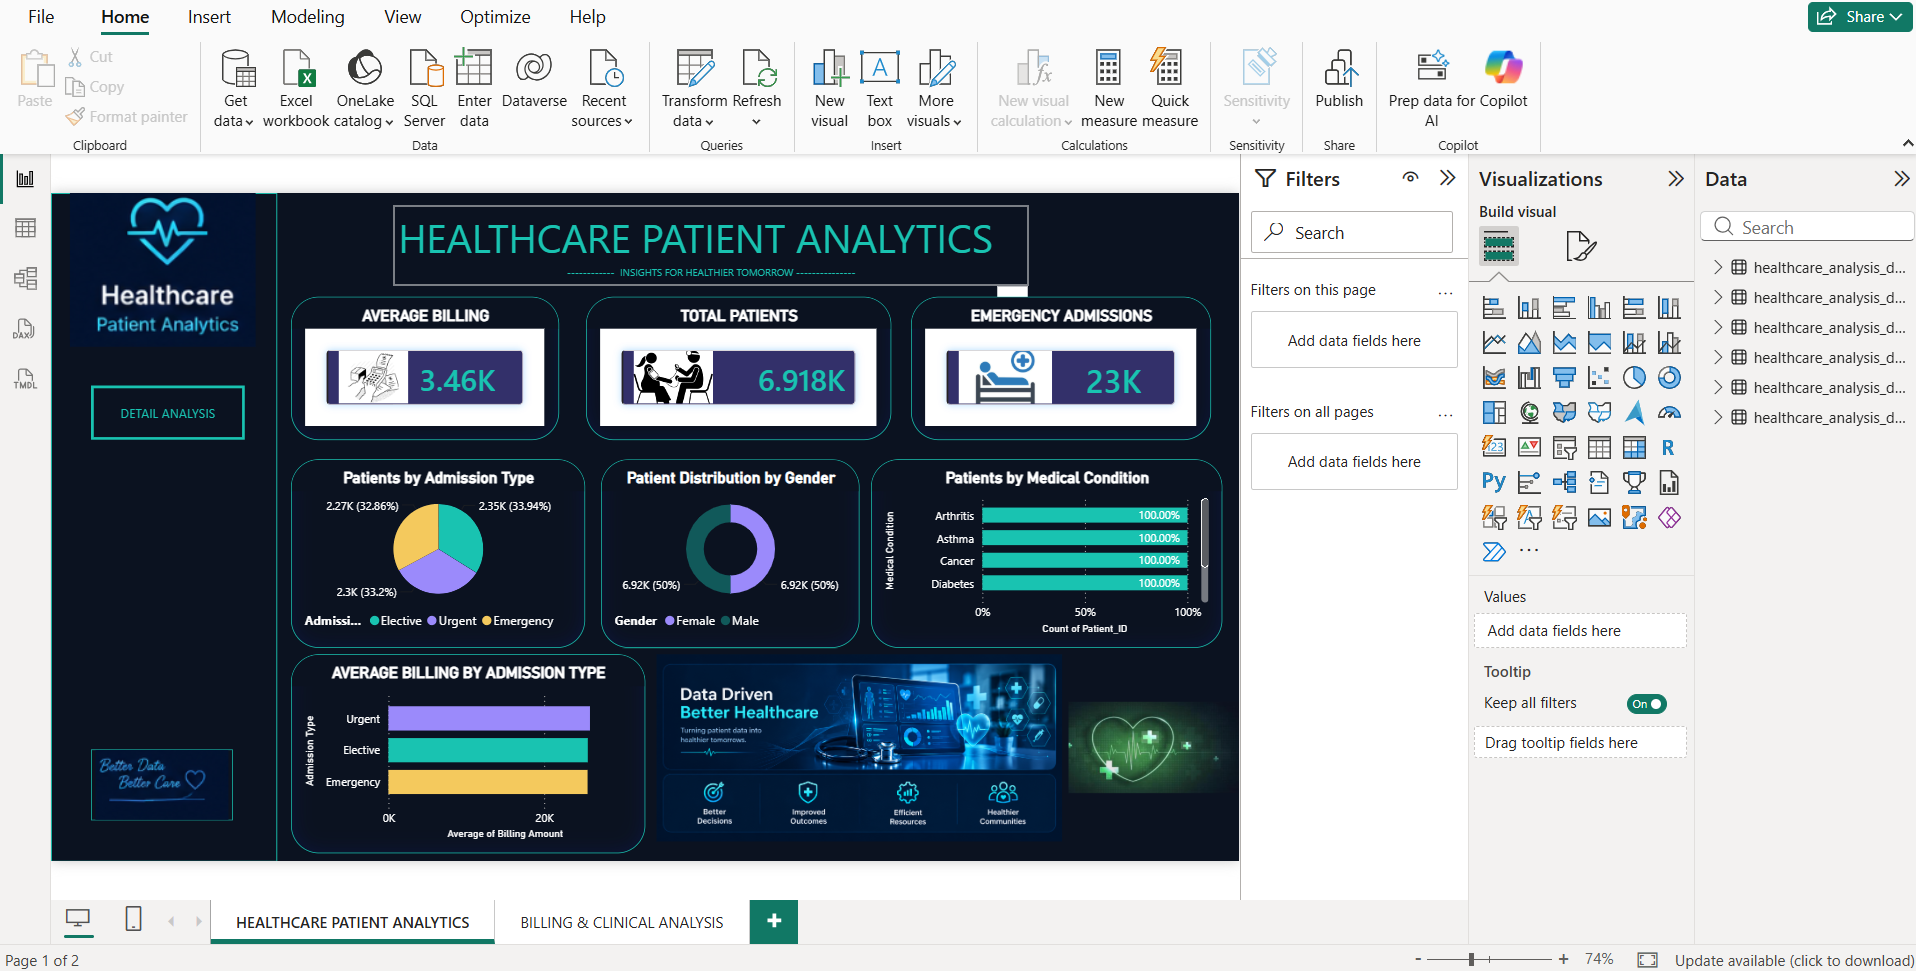

The page's visual inventory and layout, read from the dashboard file:
{"tool":"powerbi","page":{"name":"HEALTHCARE PATIENT ANALYTICS","canvas":[1280,720],"ordinal":0},"visuals":[{"type":"textbox","box":[368.6,12.9,684.3,87.1],"z":0},{"type":"cardVisual","title":"TOTAL PATIENTS","fields":{"Data":["CountNonNull(healthcare_analysis_db billing.Patient_ID)"]},"box":[575.7,111.4,328.6,154.3],"z":1000},{"type":"pieChart","title":"Patients by Admission Type","fields":{"Category":["healthcare_analysis_db admissions.Admission Type"],"Y":["CountNonNull(healthcare_analysis_db admissions.Patient_ID)"]},"box":[258.6,287.1,317.1,202.9],"z":2000},{"type":"hundredPercentStackedBarChart","title":"Patients by Medical Condition","fields":{"Category":["healthcare_analysis_db healthcare_cleaned.Medical Condition"],"Y":["CountNonNull(healthcare_analysis_db billing.Patient_ID)"]},"box":[882.9,287.1,378.6,202.9],"z":3000},{"type":"donutChart","title":"Patient Distribution by Gender","fields":{"Category":["healthcare_analysis_db healthcare_cleaned.Gender"],"Y":["CountNonNull(healthcare_analysis_db billing.Patient_ID)"]},"box":[592.9,287.1,278.6,202.9],"z":4000},{"type":"cardVisual","title":"EMERGENCY ADMISSIONS","fields":{"Data":["Sum(healthcare_analysis_db healthcare_cleaned.Admission Month)"]},"box":[925.7,111.4,322.9,154.3],"z":5000},{"type":"barChart","title":"AVERAGE BILLING BY ADMISSION TYPE","fields":{"Category":["healthcare_analysis_db admissions.Admission Type"],"Y":["Avg(healthcare_analysis_db billing.Billing Amount)"]},"box":[258.6,497.1,381.4,214.3],"z":6000},{"type":"cardVisual","title":"AVERAGE BILLING","fields":{"Data":["Avg(healthcare_analysis_db billing.Billing_ID)"]},"box":[258.6,111.4,288.6,154.3],"z":7000},{"type":"image","box":[517.1,497.1,707.1,201.4],"z":8000},{"type":"shape","box":[0,0,243.7,720.2],"z":9000},{"type":"image","box":[11.4,0,218.6,165.7],"z":10000},{"type":"actionButton","box":[42.9,207.1,165.7,58.6],"z":11000},{"type":"image","box":[42.9,598.6,152.9,77.1],"z":12000},{"type":"image","box":[1095.7,497.1,184.3,201.4],"z":13000}]}

Visuals, with their boxes on the page's 1280x720 design canvas (x1, y1, x2, y2). These are canvas units, not pixel positions in the 1916x971 screenshot, which may show the page scaled, cropped or inside an application window:
textbox: bbox=(369, 13, 1053, 100)
"TOTAL PATIENTS" cardVisual: bbox=(576, 111, 904, 266)
"Patients by Admission Type" pieChart: bbox=(259, 287, 576, 490)
"Patients by Medical Condition" hundredPercentStackedBarChart: bbox=(883, 287, 1262, 490)
"Patient Distribution by Gender" donutChart: bbox=(593, 287, 872, 490)
"EMERGENCY ADMISSIONS" cardVisual: bbox=(926, 111, 1249, 266)
"AVERAGE BILLING BY ADMISSION TYPE" barChart: bbox=(259, 497, 640, 711)
"AVERAGE BILLING" cardVisual: bbox=(259, 111, 547, 266)
image: bbox=(517, 497, 1224, 698)
shape: bbox=(0, 0, 244, 720)
image: bbox=(11, 0, 230, 166)
actionButton: bbox=(43, 207, 209, 266)
image: bbox=(43, 599, 196, 676)
image: bbox=(1096, 497, 1280, 698)
